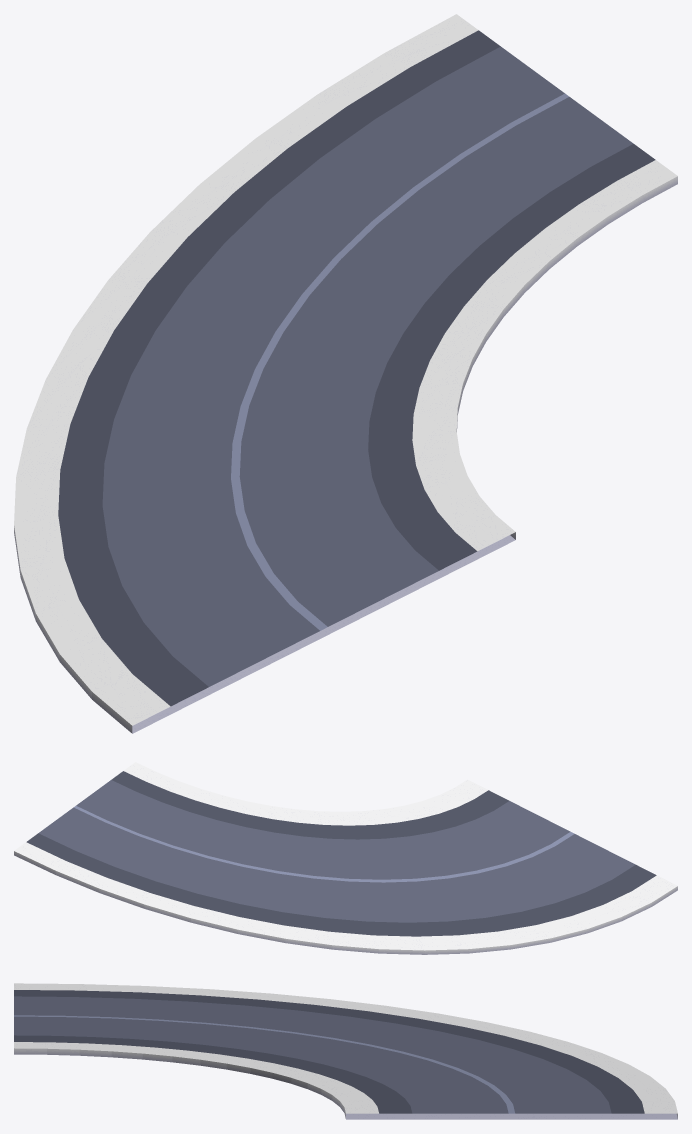
File: road-Turn-HalfBankedLeft-BiSlopeUp-Up2-Right-Size2.glb
3 views of the same model, one above another, from view 1: azimuth 30°, elevation 25°; view 2: azimuth 150°, elevation 25°; view 3: azimuth 270°, elevation 25° (orthographic). The views are drawn at different scales.
Parts seen in each view (by area): view 1: road-Turn-HalfBankedLeft-BiSlopeUp-Up2-Right-Size2; view 2: road-Turn-HalfBankedLeft-BiSlopeUp-Up2-Right-Size2; view 3: road-Turn-HalfBankedLeft-BiSlopeUp-Up2-Right-Size2.
Part boxes in pixels (bbox=[...]): road-Turn-HalfBankedLeft-BiSlopeUp-Up2-Right-Size2: bbox=[14, 14, 677, 733]; road-Turn-HalfBankedLeft-BiSlopeUp-Up2-Right-Size2: bbox=[14, 762, 677, 954]; road-Turn-HalfBankedLeft-BiSlopeUp-Up2-Right-Size2: bbox=[14, 983, 677, 1119].
Size of the model in its own units: 2 by 0.52 by 2.
Materials: 1 (1 with a texture image).
